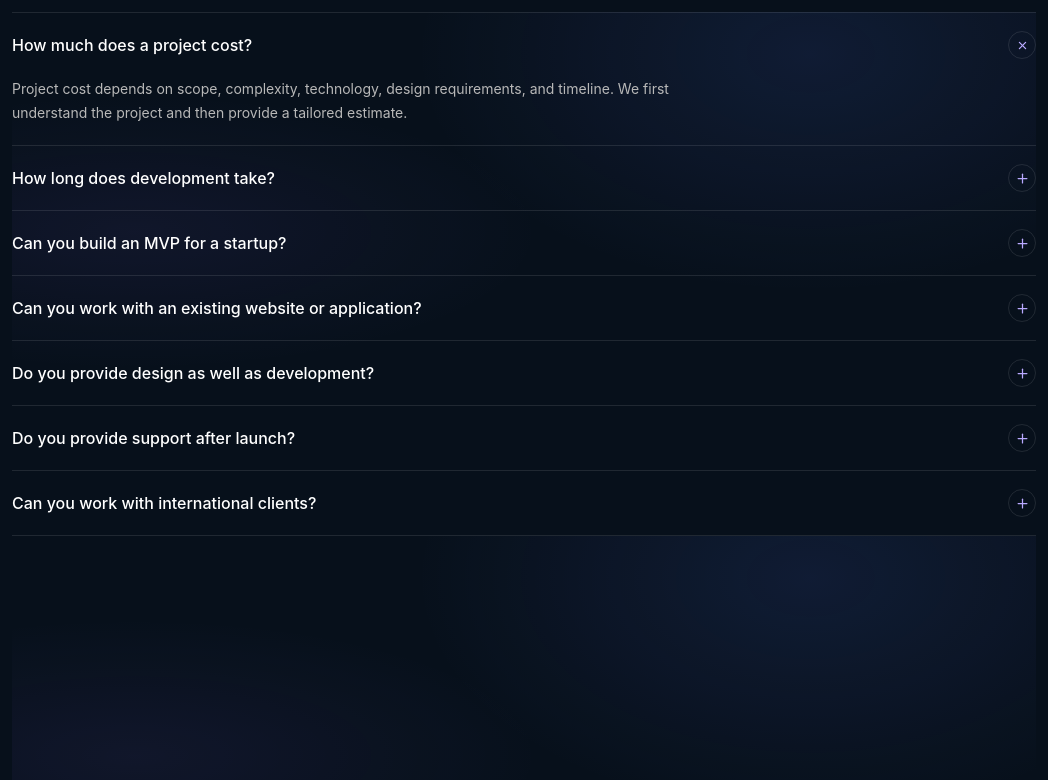
<HomeFAQ /> › closes the current answer when its question is activated again
This screenshot has width=1048, height=780.
Click the button "How much does a project cost?".
click(132, 45)  # box [12,13,1036,77]
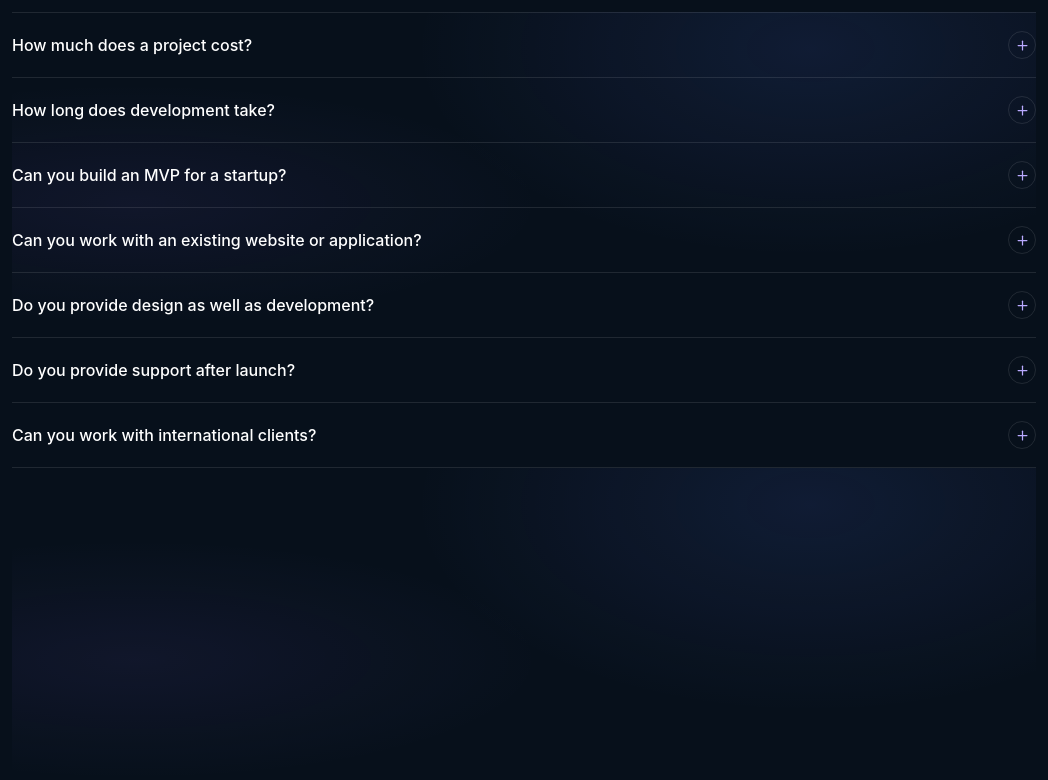
Check: the button "How much does a project cost?" is collapsed, box [12,13,1036,77]
Check: the text with id "home-faq-answer-1" is gone
